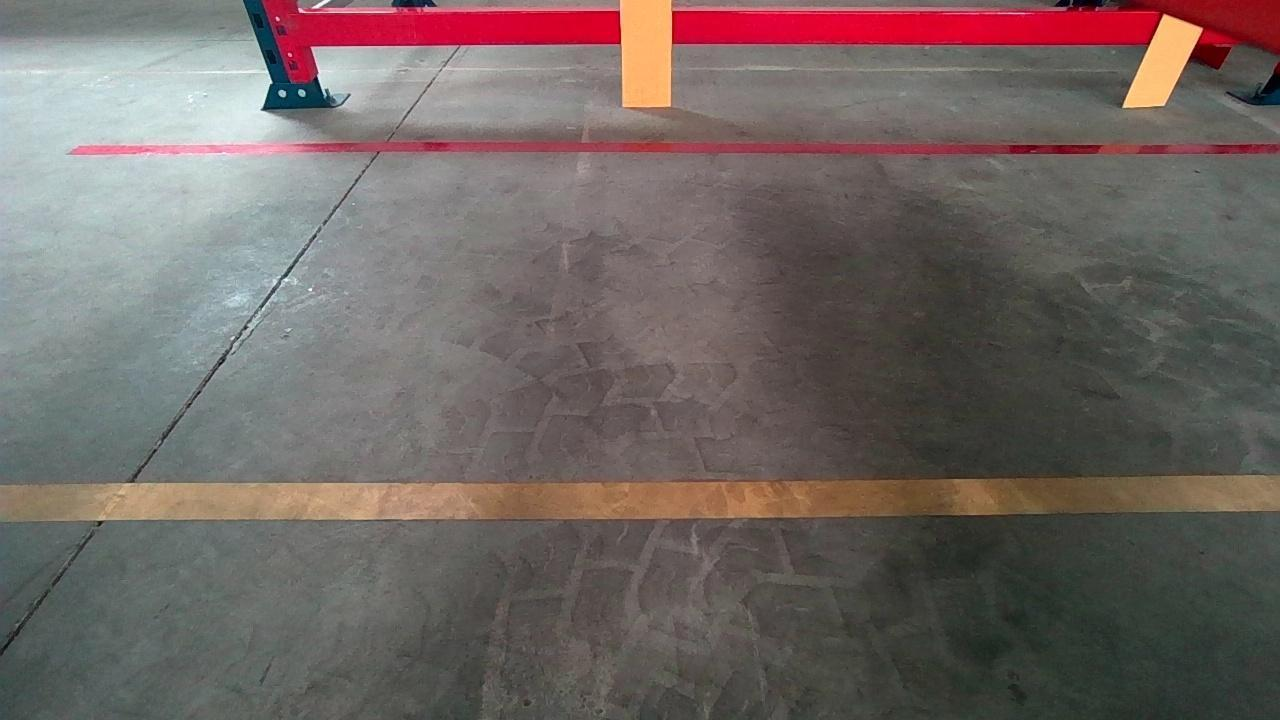red_line: (71, 144, 1280, 156)
